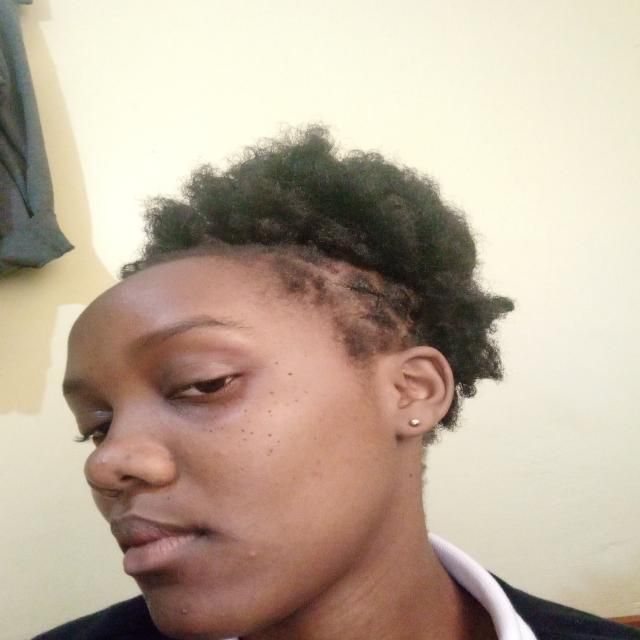Acne: (244, 546, 260, 563), (177, 607, 193, 618), (119, 452, 134, 463), (98, 458, 110, 466), (106, 311, 118, 319), (120, 300, 128, 306)
Eyebags: (162, 381, 255, 425)
